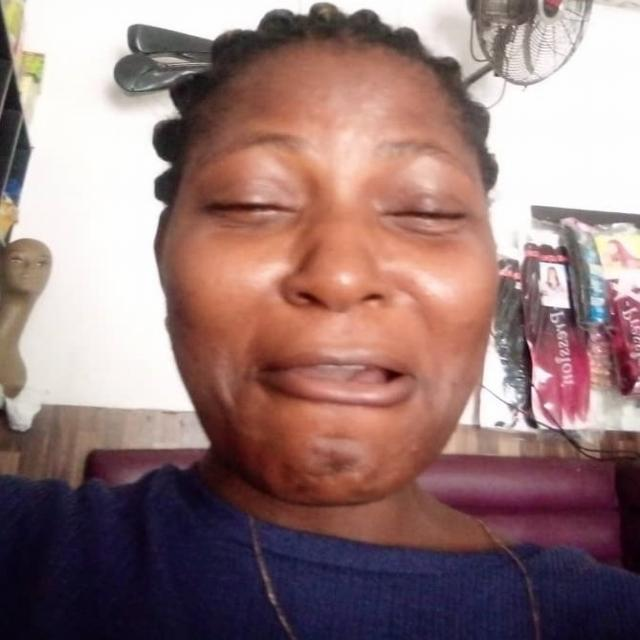sad: (142, 4, 507, 518)
